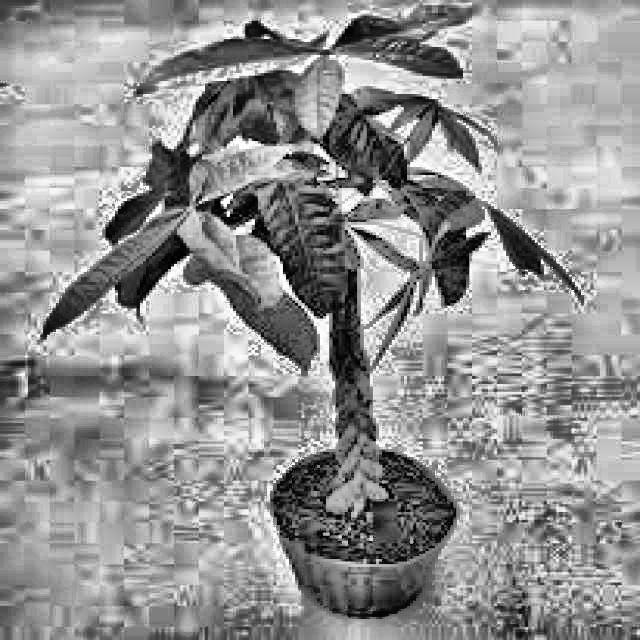plants: (43, 0, 596, 509)
